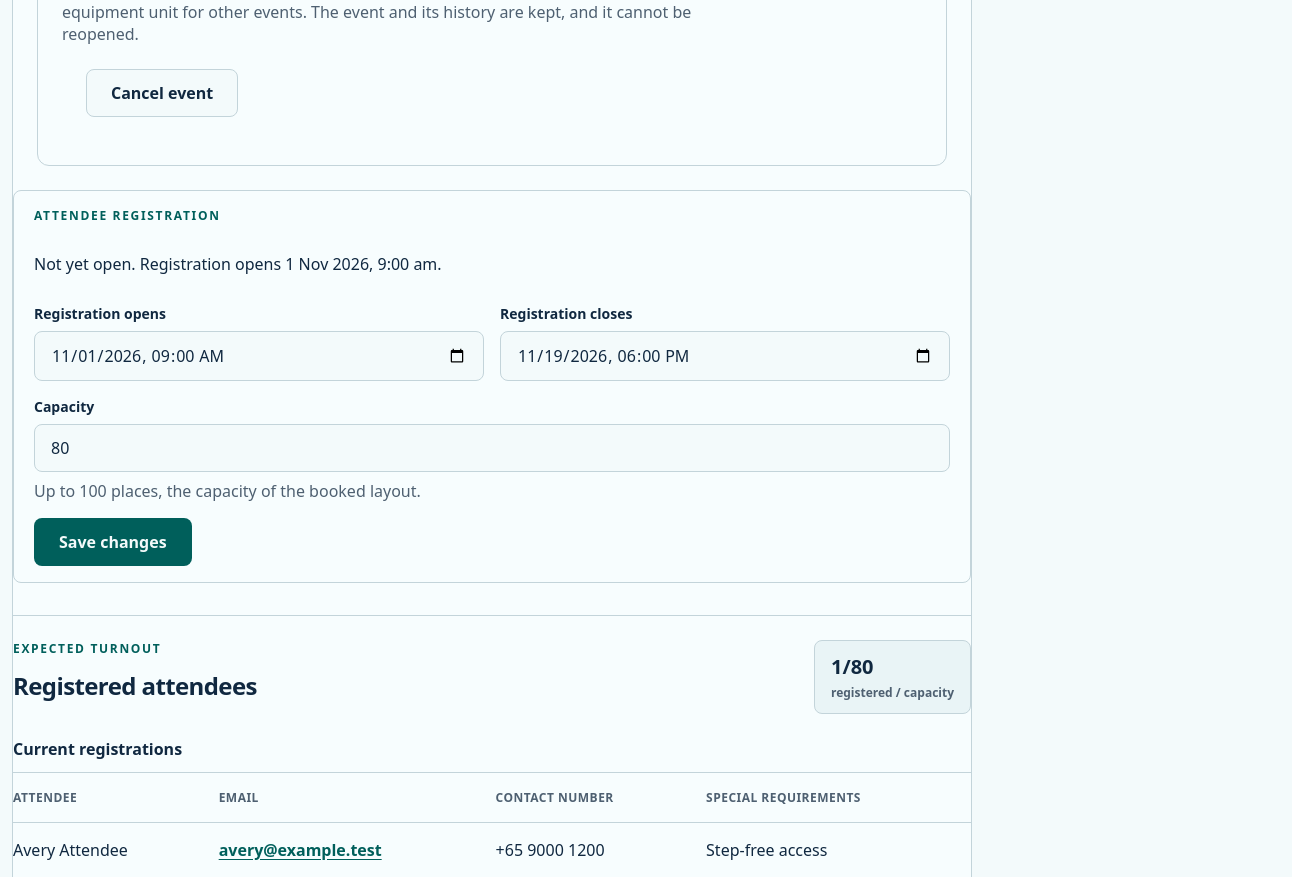
Test: QA-SPL-120-021: refreshes attendee capacity after registration settings change
(page scrolled)
Check: the element named "1 of 80 places registered" is shown, box [814,640,971,714]
Replace the text in the number field labelled "Capacity" with "90" at (492, 448), box [34,424,950,472]
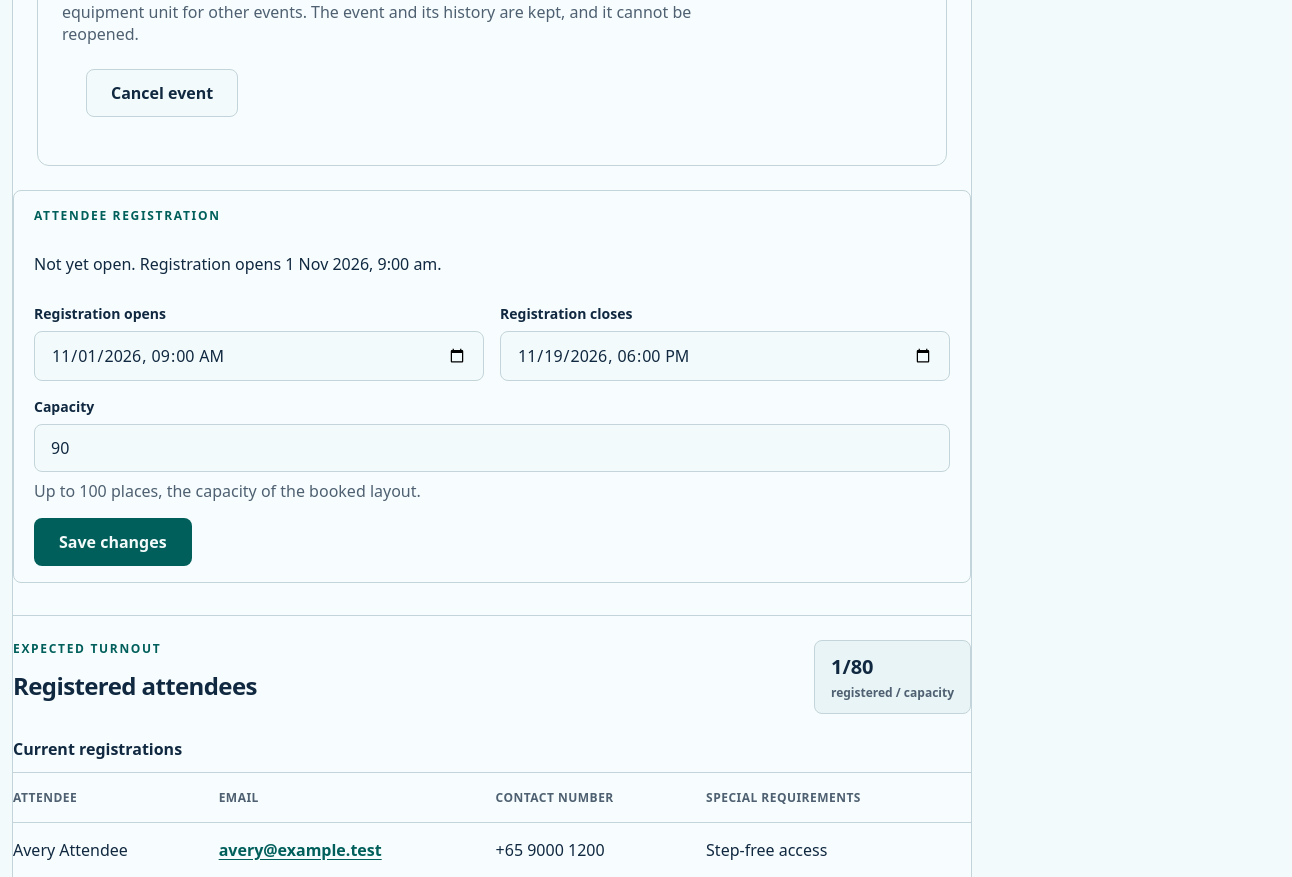
Click the button "Save changes" at (113, 542), box [34,518,192,566]
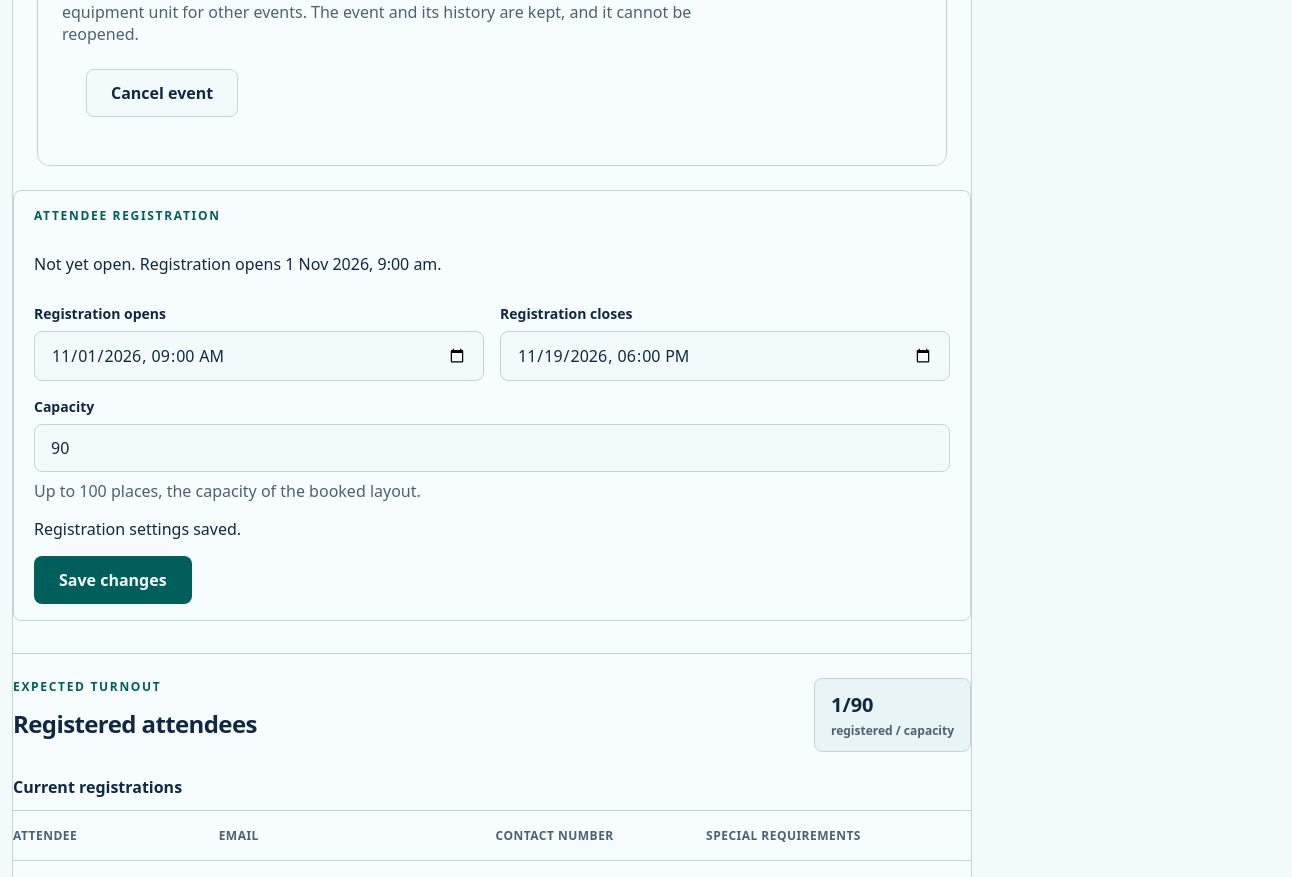
Check: the element named "1 of 90 places registered" is shown, box [814,678,971,752]
